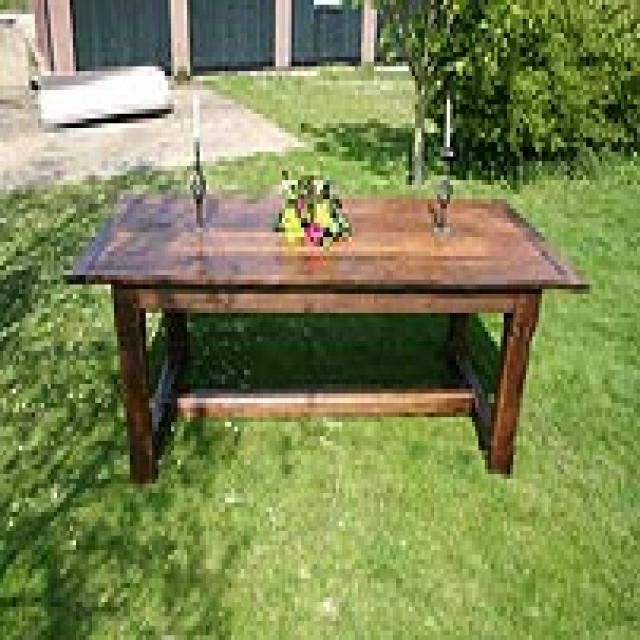table: (64, 187, 590, 488)
